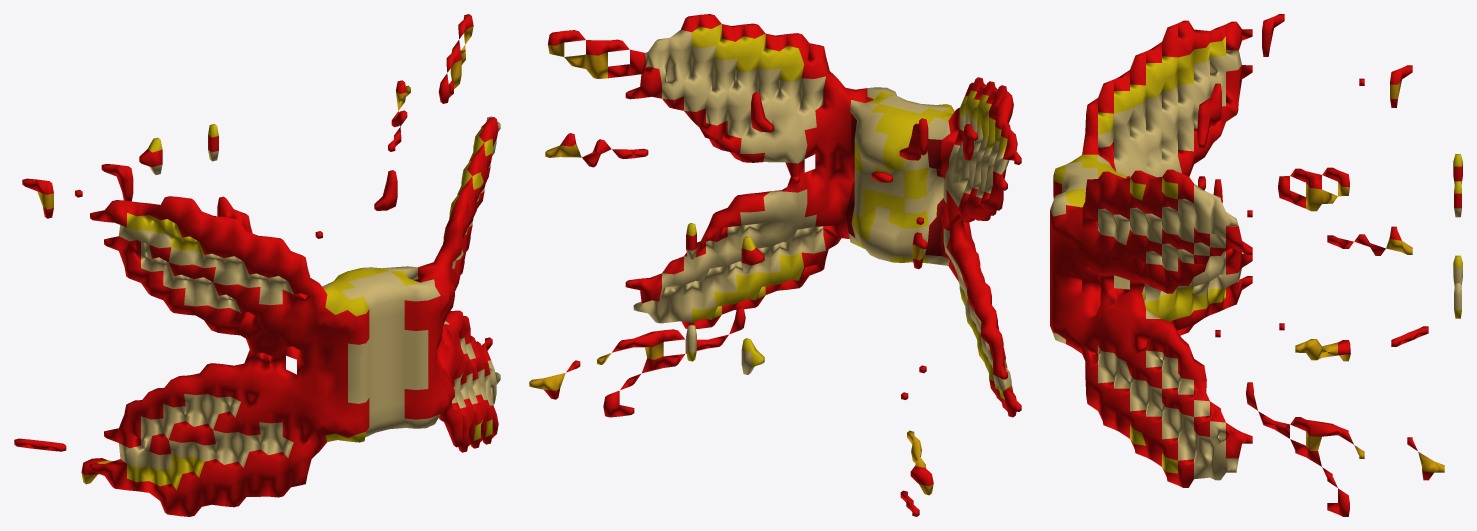
3 renders of one model, left to right at view 1: azimuth 30°, elevation 25°; view 2: azimuth 150°, elevation 25°; view 3: azimuth 270°, elevation 25°, orthographic.
Bounding box in the file's own units: 1.52 × 1.28 × 1.29.
